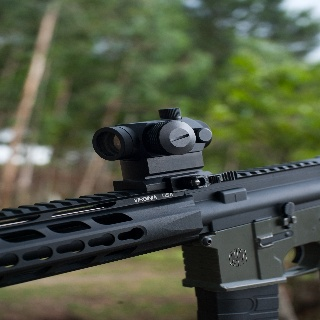rifle: (1, 107, 320, 320)
